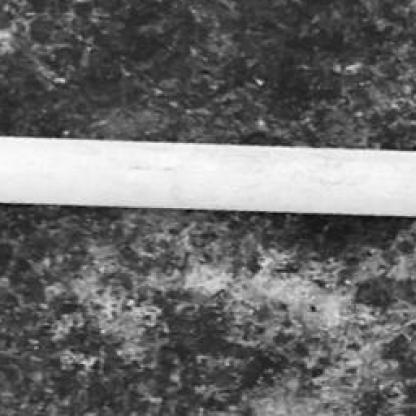PVC: (0, 138, 414, 216)
